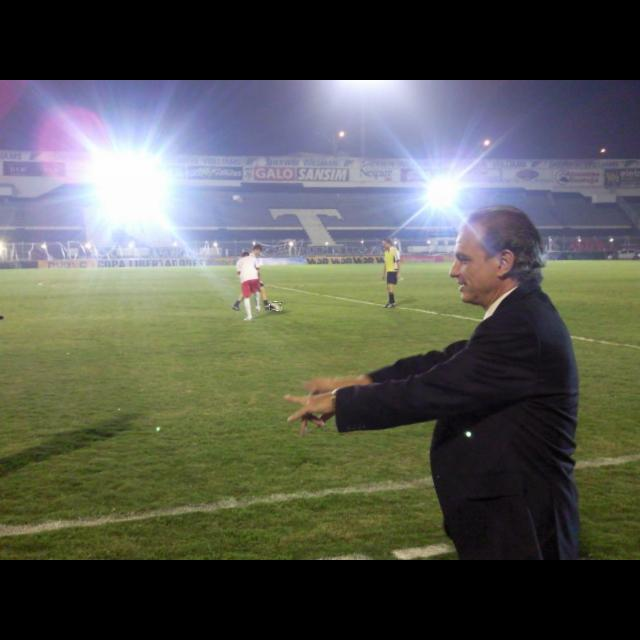Football: (270, 302, 282, 310)
